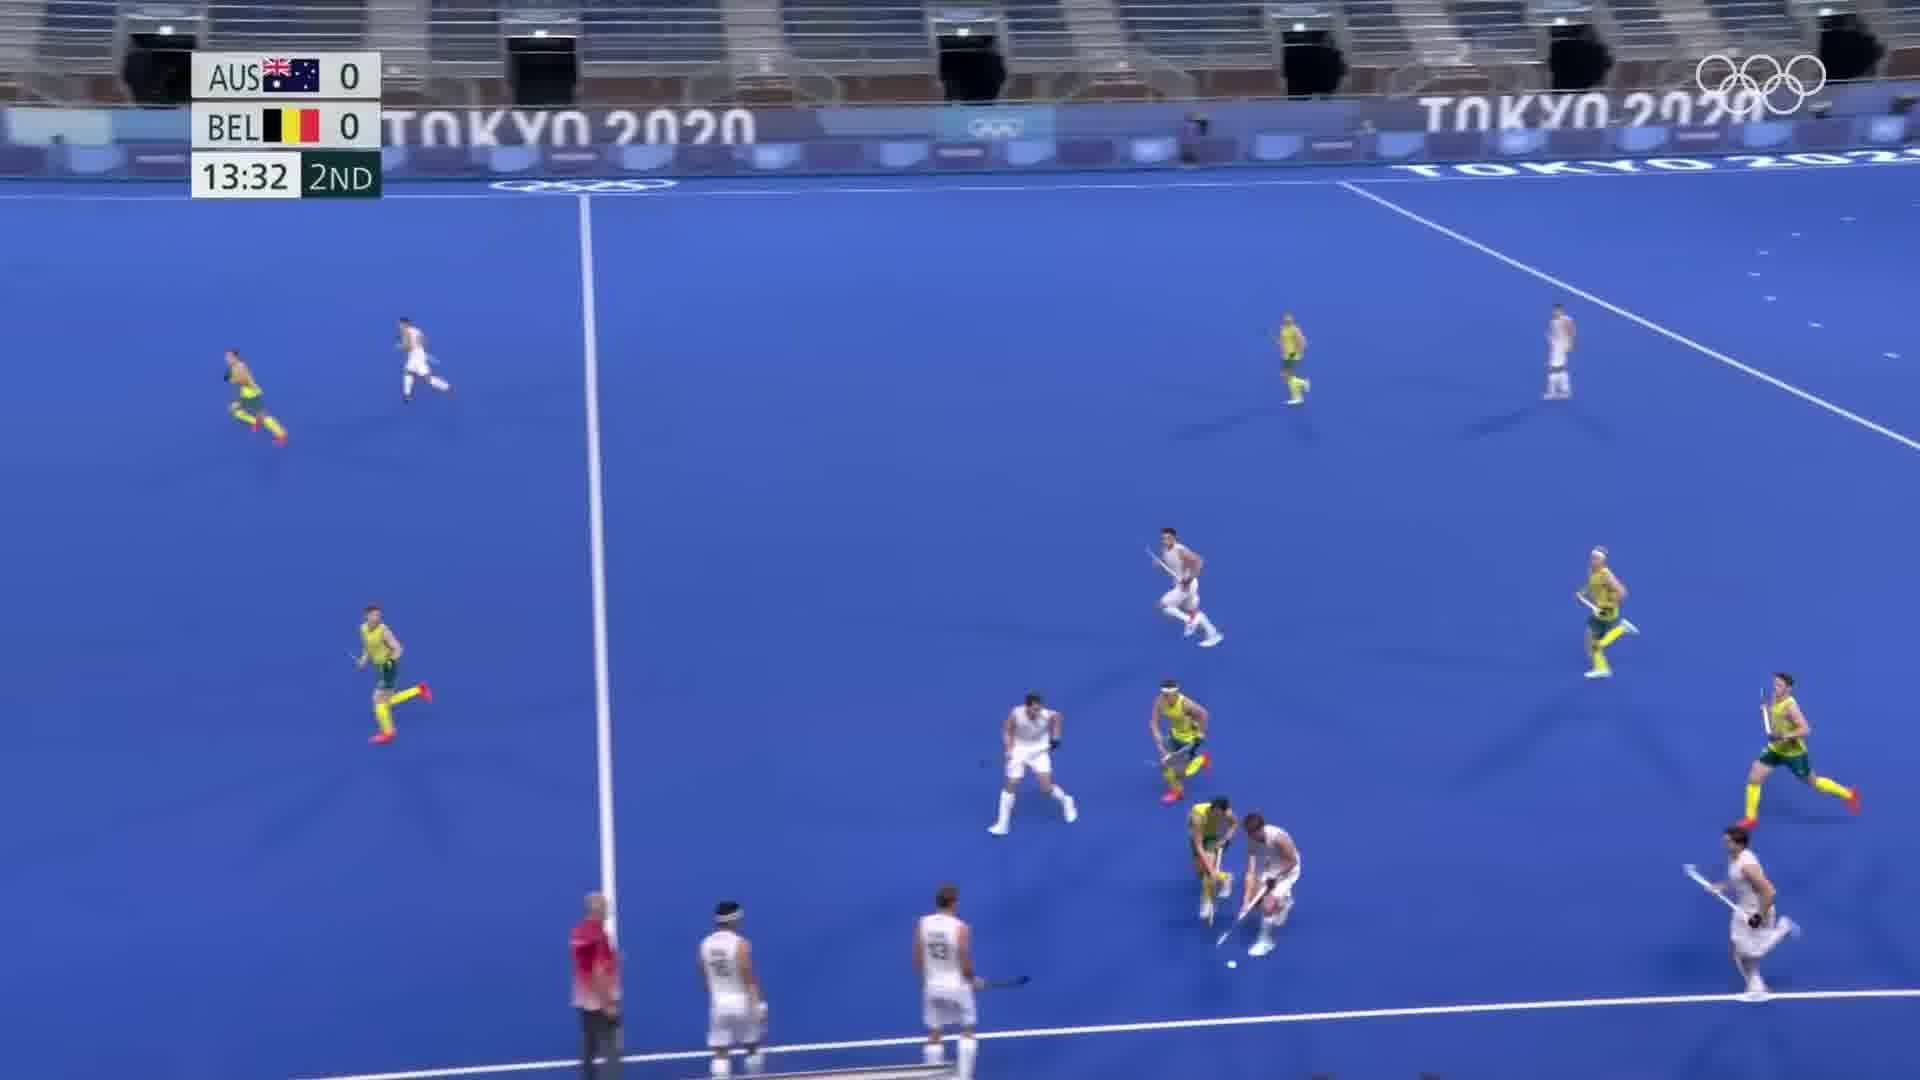ball: (1221, 950, 1244, 979)
